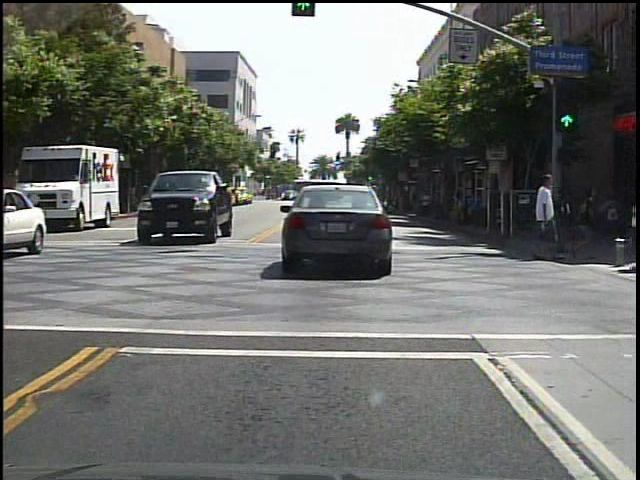person: (527, 161, 566, 263), (417, 188, 435, 221), (564, 173, 566, 260)
